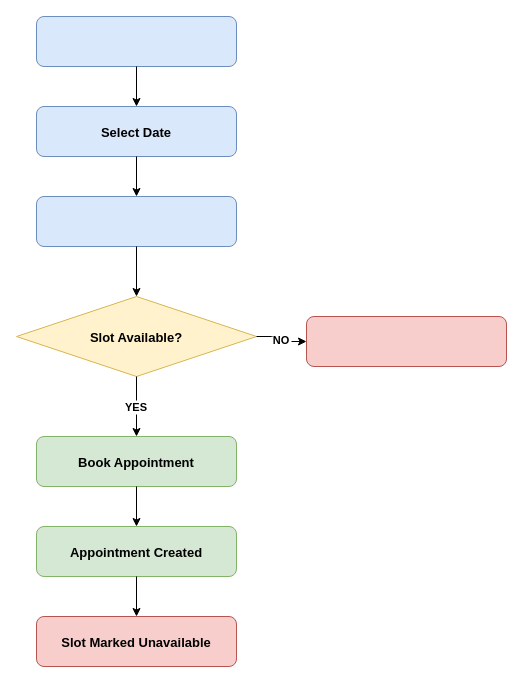
The diagram is 523 pixels wide and 683 high, and some of its shapes have lost their labels. Here are the shapes that lost their labels. From the top down, the centre of each, then its label:
point 136,41: Patient Selects Doctor
point 136,221: Fetch Available Slots
point 406,341: Show Slot Unavailable Message
